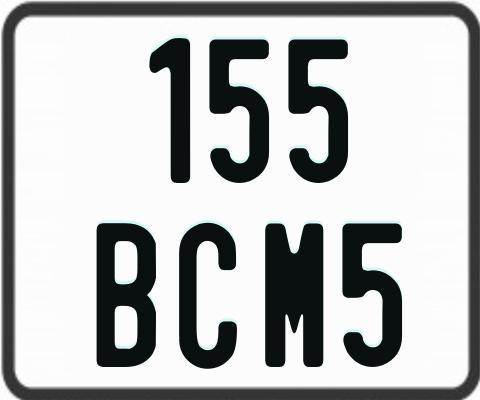1: (149, 38, 191, 187)
5: (208, 38, 274, 182), (285, 39, 345, 187), (342, 220, 402, 367)
B: (94, 221, 154, 371)
C: (179, 220, 237, 366)
M: (265, 222, 325, 372)
